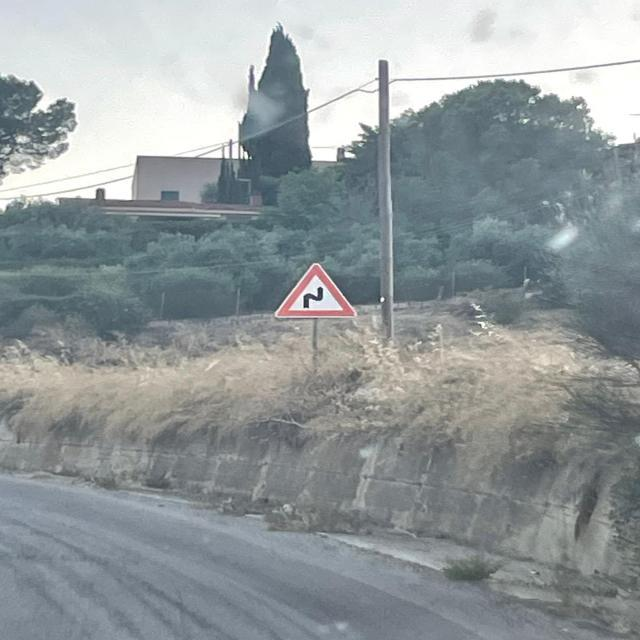warn_double_curve: (274, 261, 359, 319)
